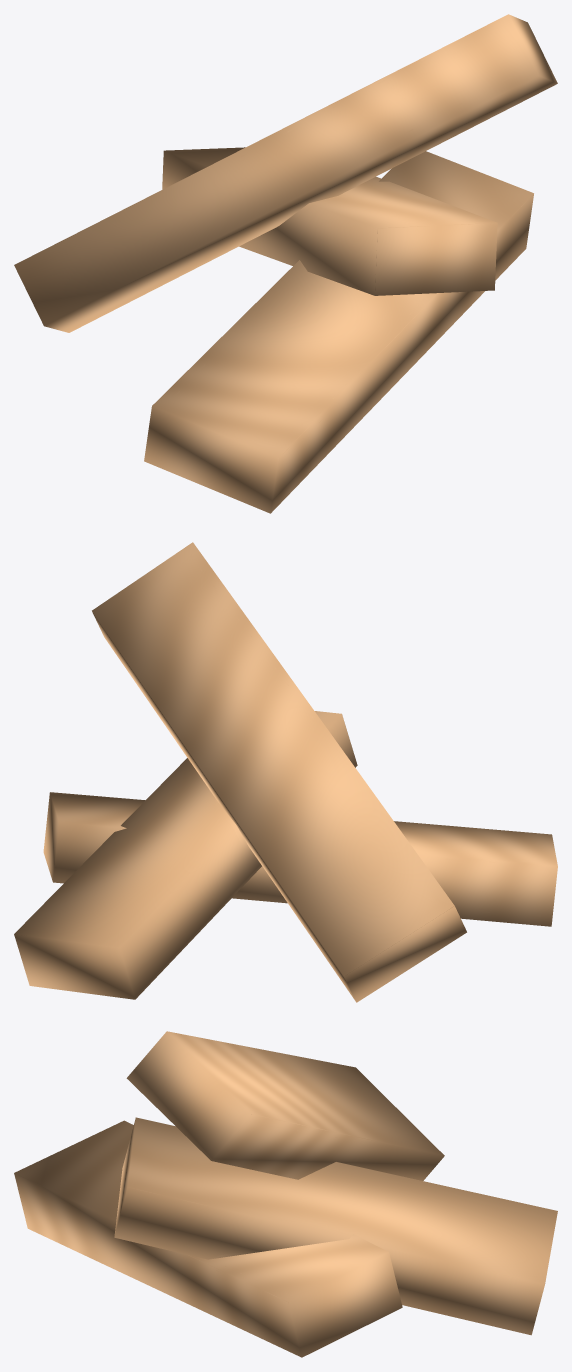
The model's file is Madeira_Solta_upd.fbx.
3 views of the same model, one above another, from view 1: azimuth 30°, elevation 25°; view 2: azimuth 150°, elevation 25°; view 3: azimuth 270°, elevation 25° (orthographic). The views are drawn at different scales.
Visible parts, largest first — view 1: Madeira Solta.L; view 2: Madeira Solta.L; view 3: Madeira Solta.L.
Part boxes in pixels (x1=…): Madeira Solta.L: x1=14, y1=14, x2=557, y2=513; Madeira Solta.L: x1=14, y1=542, x2=557, y2=1002; Madeira Solta.L: x1=14, y1=1031, x2=557, y2=1357.
Bounding box in the file's own units: 96.79 × 70.35 × 103.
